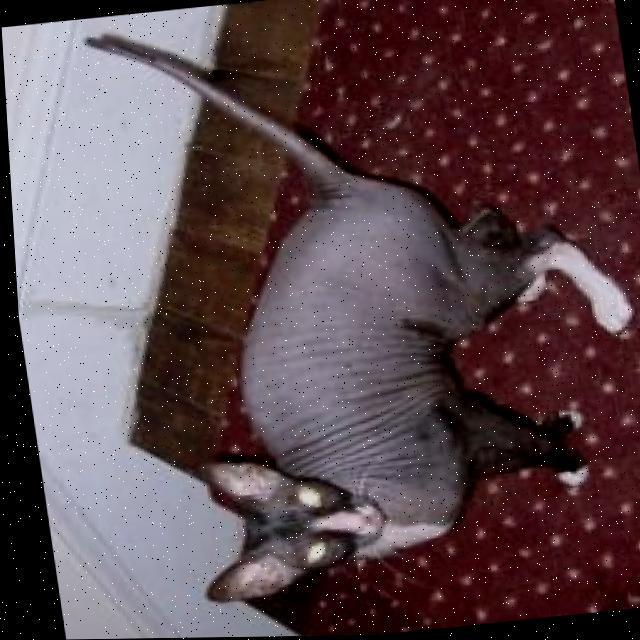Sphynx: (75, 0, 640, 613)
